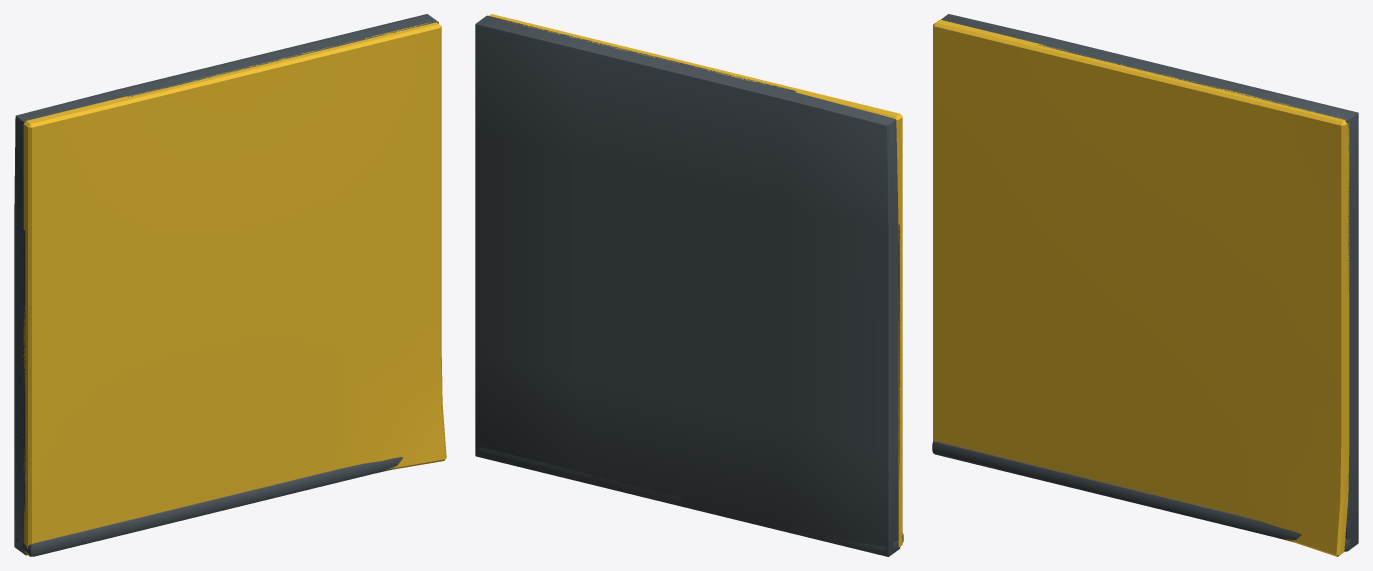
The model's file is sign_board.glb.
The picture shows the model from 3 angles, left to right: view 1: azimuth 30°, elevation 25°; view 2: azimuth 150°, elevation 25°; view 3: azimuth 330°, elevation 25°; orthographic projection.
Parts seen in each view (by area): view 1: Board, Frame; view 2: Frame, Board; view 3: Board, Frame.
Part boxes in pixels (<box>): Board: <box>23,22,446,556</box>; Frame: <box>14,14,438,556</box>; Frame: <box>475,15,903,556</box>; Board: <box>489,14,902,547</box>; Board: <box>933,19,1349,556</box>; Frame: <box>932,14,1358,551</box>.
Size of the model in its own units: 1 by 1 by 0.0853.
